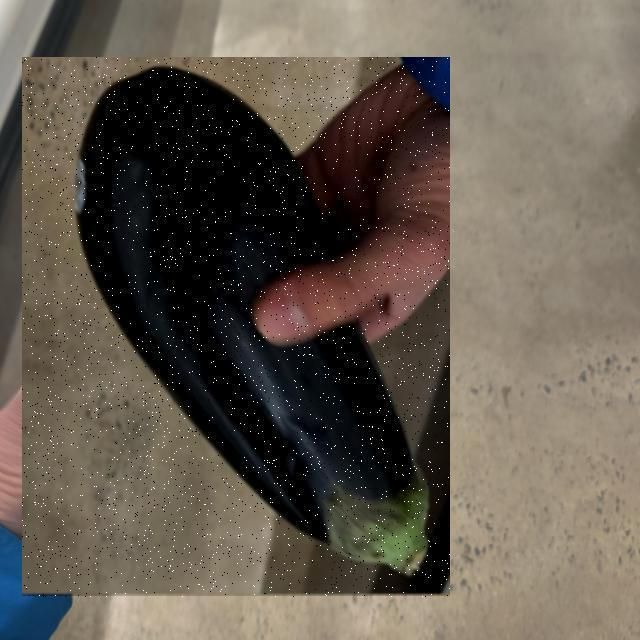Egg Plant: (22, 58, 450, 598)
